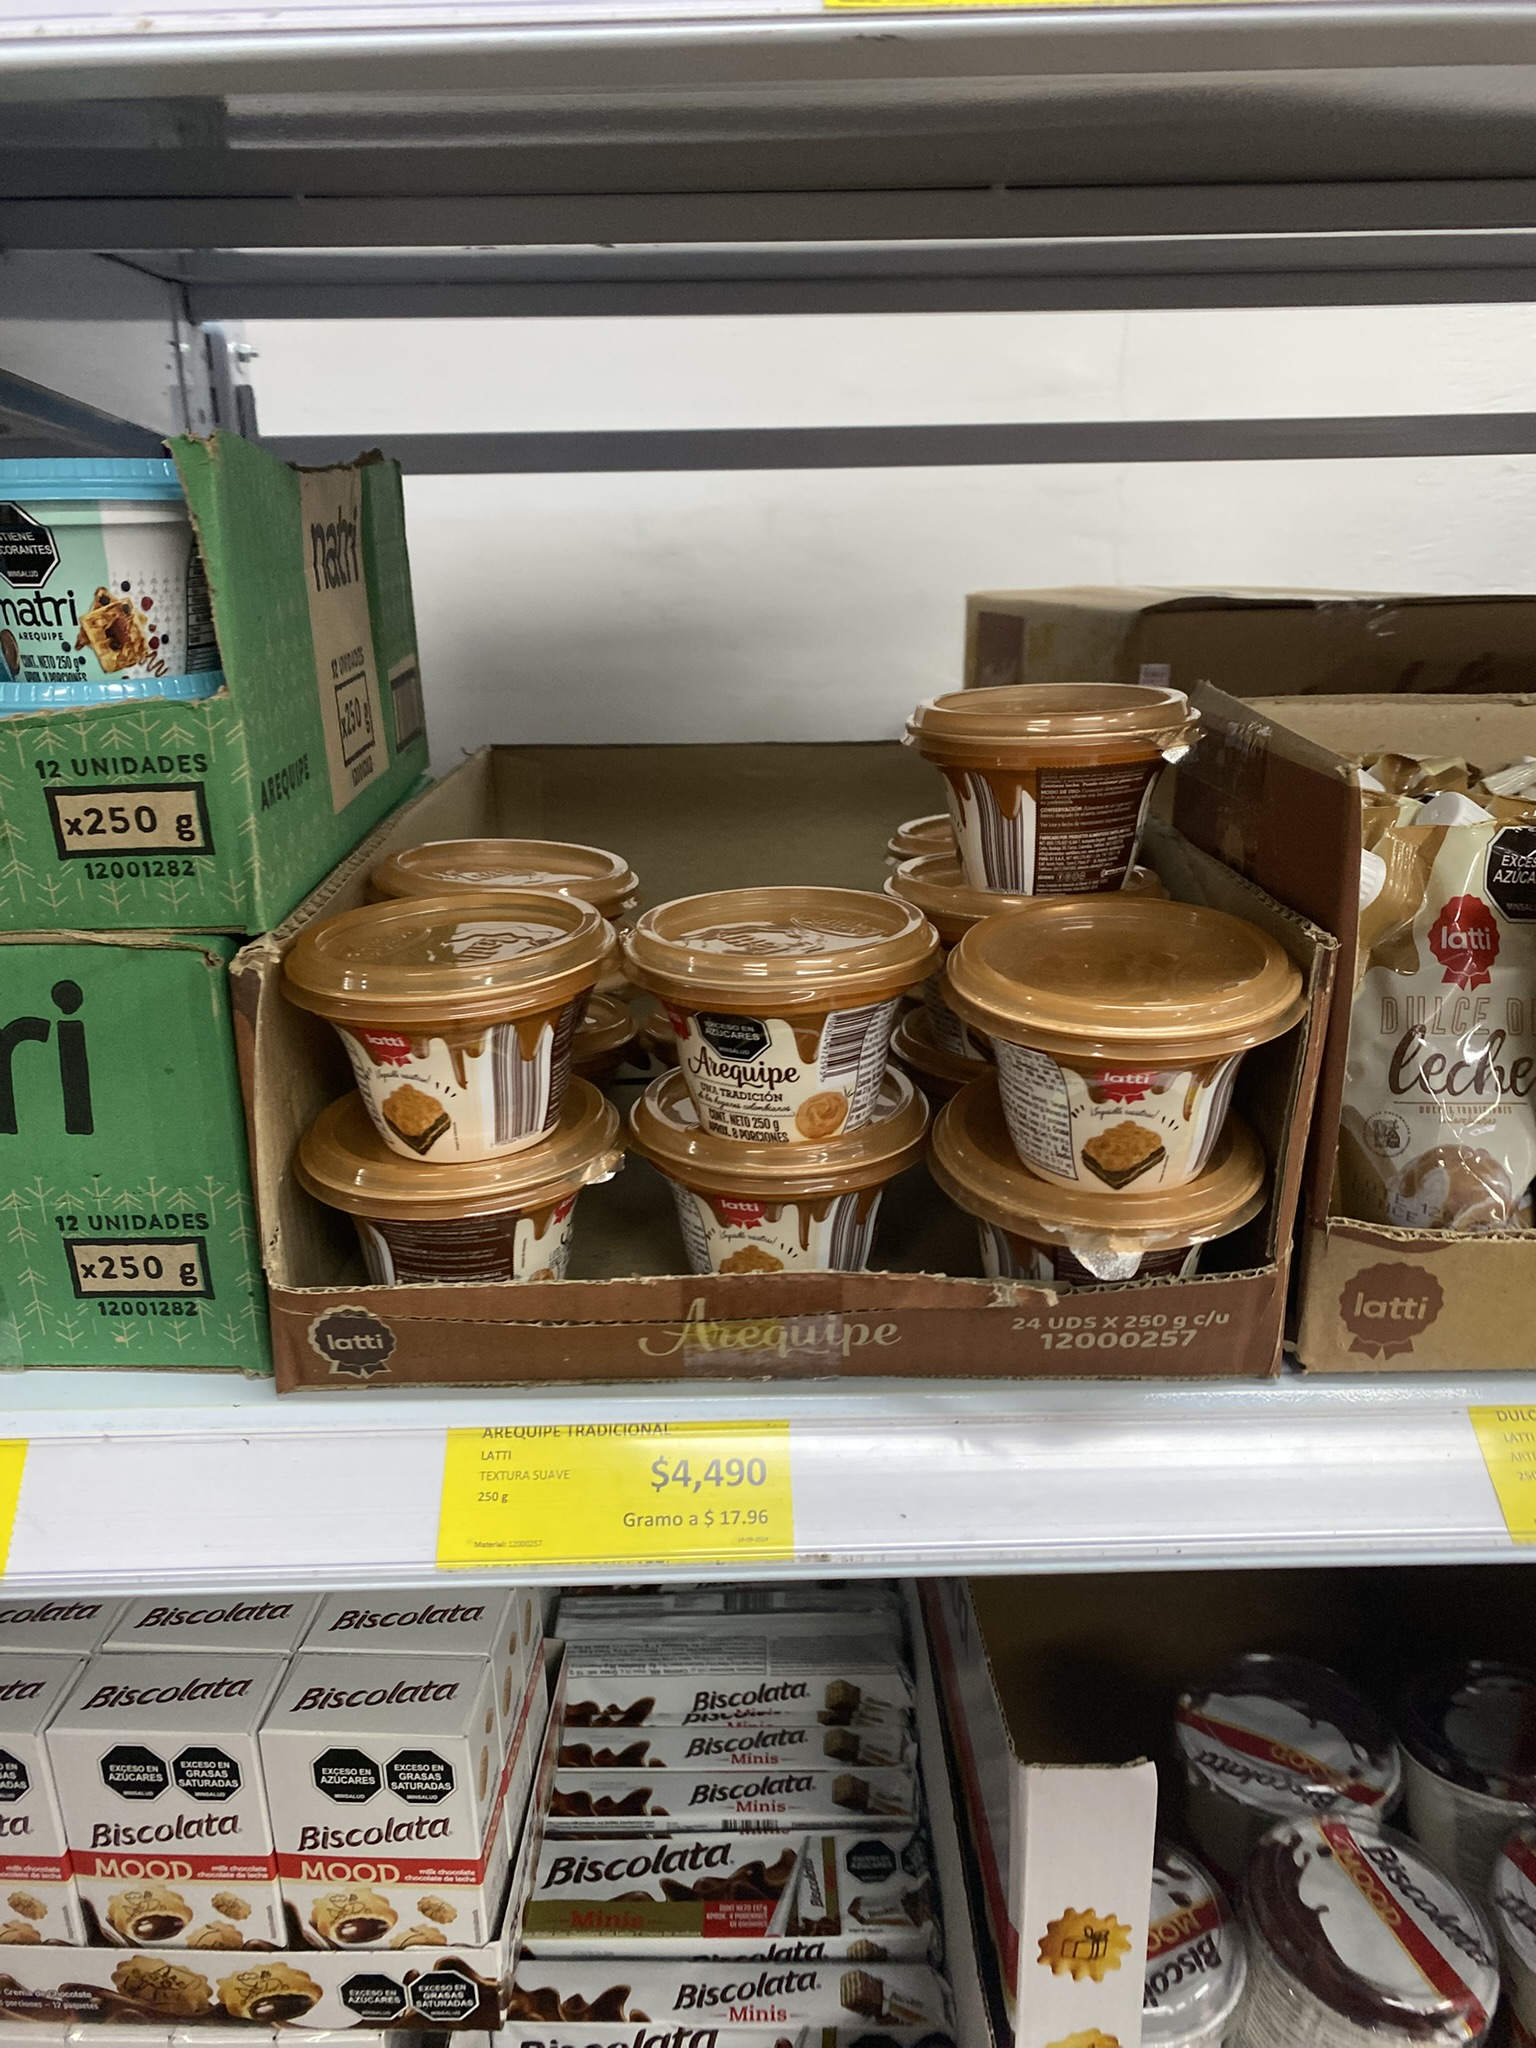Arequipe: (964, 903, 1327, 1184), (286, 888, 628, 1152), (877, 670, 1195, 927), (633, 869, 933, 1134), (649, 1142, 930, 1272)
